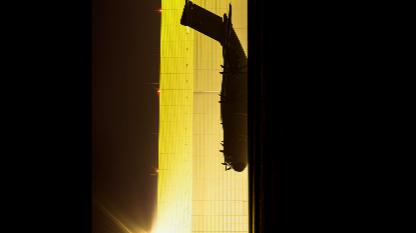A400M: (179, 0, 248, 171)
